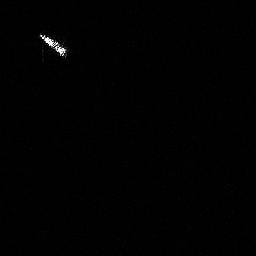ship: (35, 28, 72, 60)
